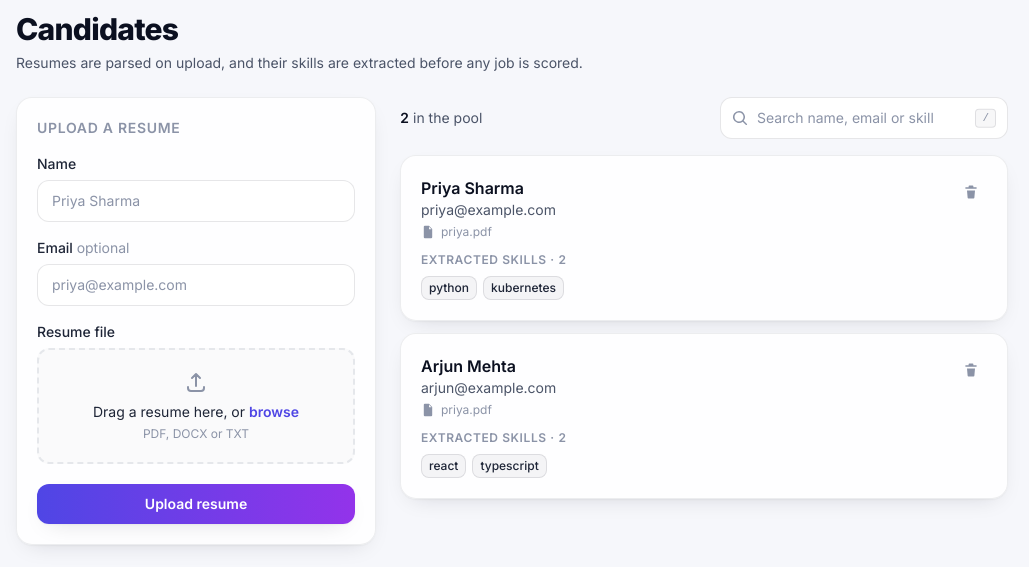
Test case: CandidatesPage › searching › filters by an extracted skill, not just the name
Check: the text "Priya Sharma" is shown, box [421,178,524,198]
Type "kubernetes" into the field named "Search candidates".
click(864, 118); type("kubernetes")  # box [720,97,1008,139]
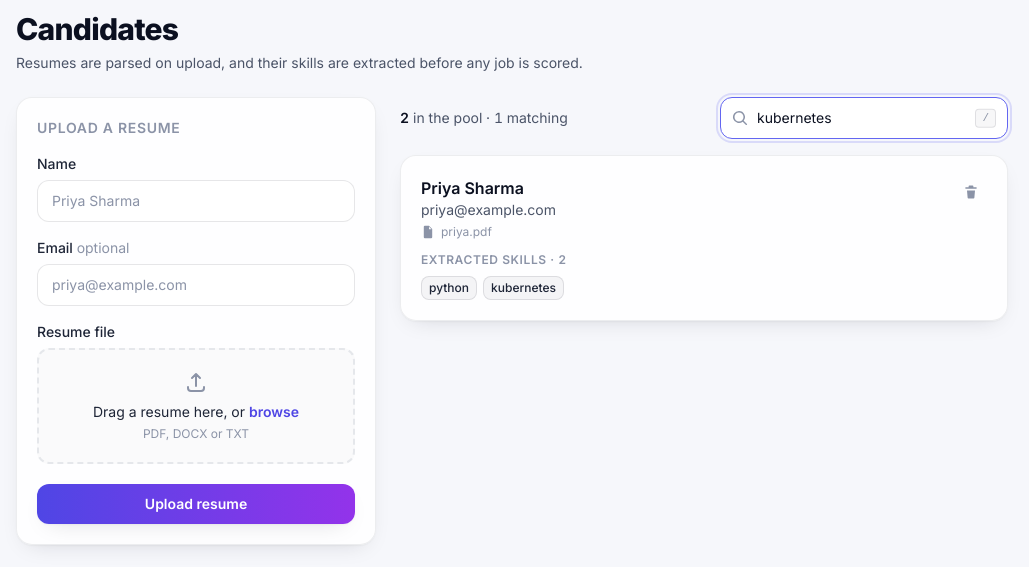
Check: the text "Priya Sharma" is shown, box [421,178,524,198]
Check: the text "Arjun Mehta" is gone
